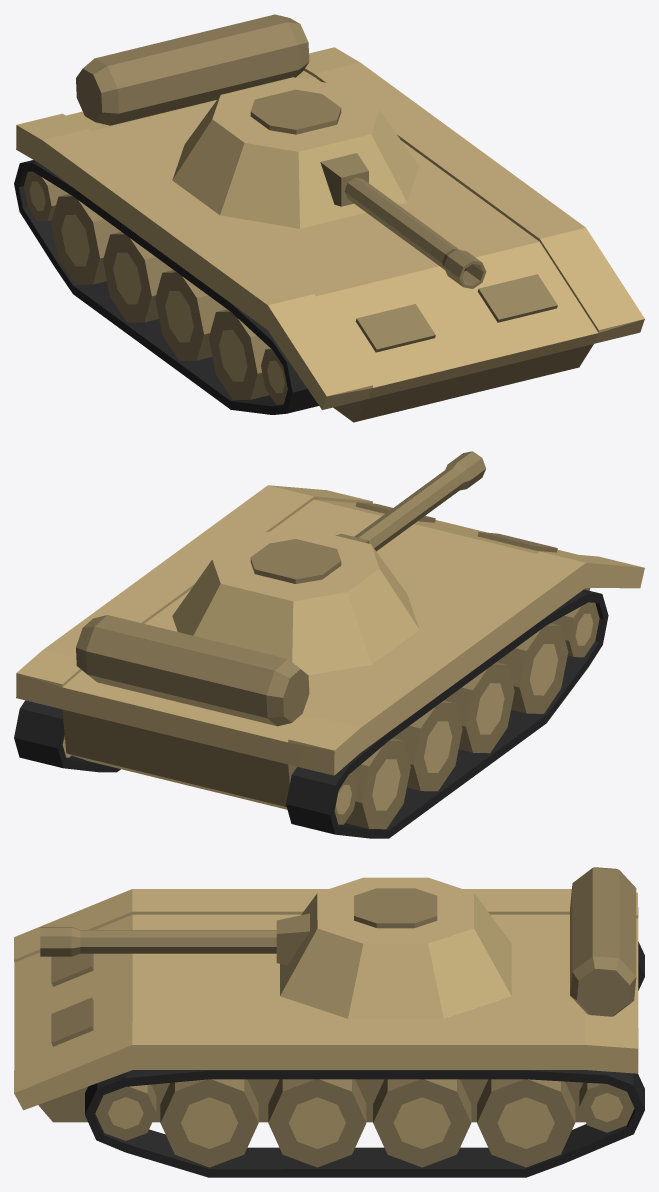
The model's file is Tank_02.fbx.
The picture shows the model from 3 angles, top to bottom: view 1: azimuth 30°, elevation 25°; view 2: azimuth 150°, elevation 25°; view 3: azimuth 270°, elevation 25°; orthographic projection.
Visible parts, largest first — view 1: Tank_02, Tank_02_Turret, Tank_02_Barrel, Tank_02_Wheel; view 2: Tank_02, Tank_02_Turret, Tank_02_Wheel, Tank_02_Barrel; view 3: Tank_02, Tank_02_Turret, Tank_02_Barrel.
Boxes of the visible parts, x1,y1,x2,y2 form: Tank_02: (14,14,644,422); Tank_02_Turret: (172,77,419,228); Tank_02_Barrel: (320,153,486,288); Tank_02_Wheel: (155,270,226,360); Tank_02: (14,485,644,838); Tank_02_Turret: (172,526,419,675); Tank_02_Wheel: (444,662,514,753); Tank_02_Barrel: (335,451,486,551); Tank_02: (14,867,644,1177); Tank_02_Turret: (280,877,511,1018); Tank_02_Barrel: (40,913,309,965).
Bounding box in the file's own units: 6.52 × 3.79 × 11.14.
